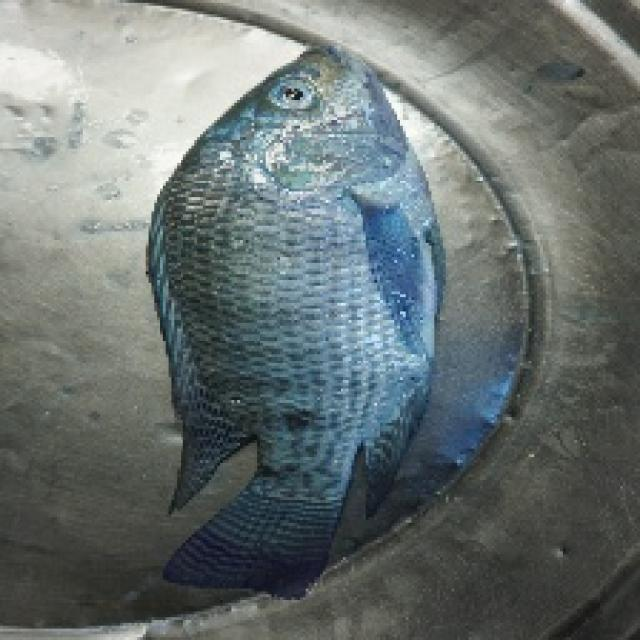Fresh: (169, 22, 464, 434), (268, 69, 322, 114)
